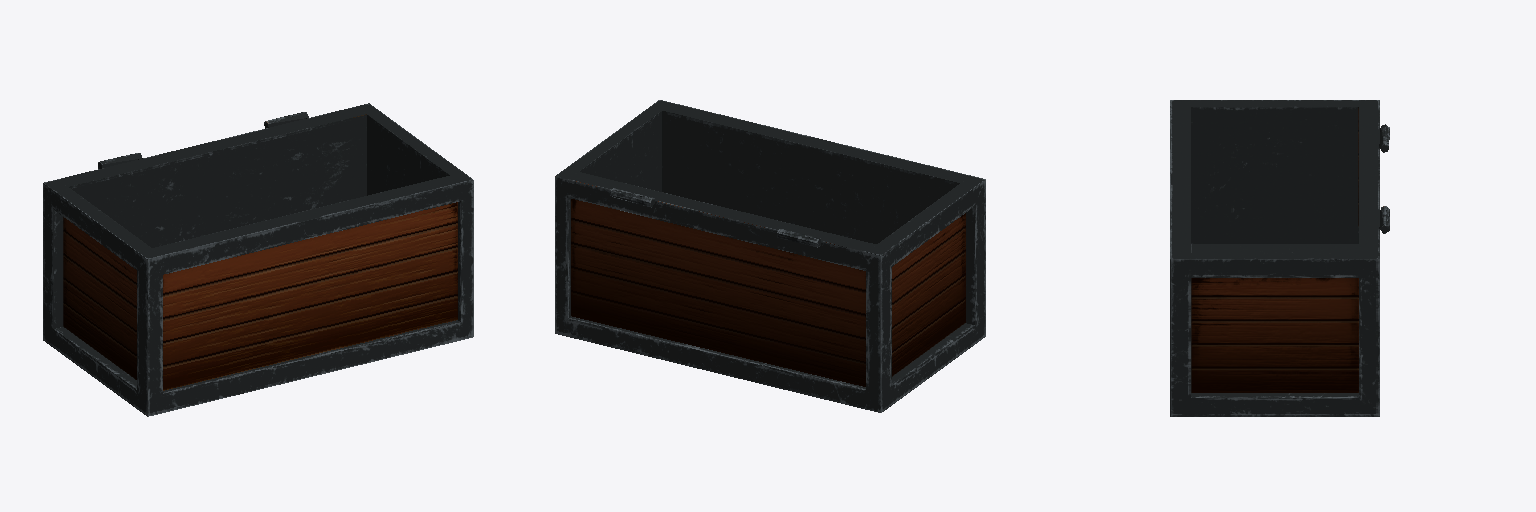
The picture shows the model from 3 angles: view 1: azimuth 30°, elevation 25°; view 2: azimuth 150°, elevation 25°; view 3: azimuth 270°, elevation 25°; orthographic projection.
Parts seen in each view (by area): view 1: chest_Cube.011; view 2: chest_Cube.011; view 3: chest_Cube.011.
Boxes of the visible parts, <box> form: chest_Cube.011: <box>43,103,473,416</box>; chest_Cube.011: <box>555,100,985,412</box>; chest_Cube.011: <box>1170,100,1389,416</box>.
Bounding box in the file's own units: 1.08 × 0.5128 × 0.6281.
1 materials, 1 textured.